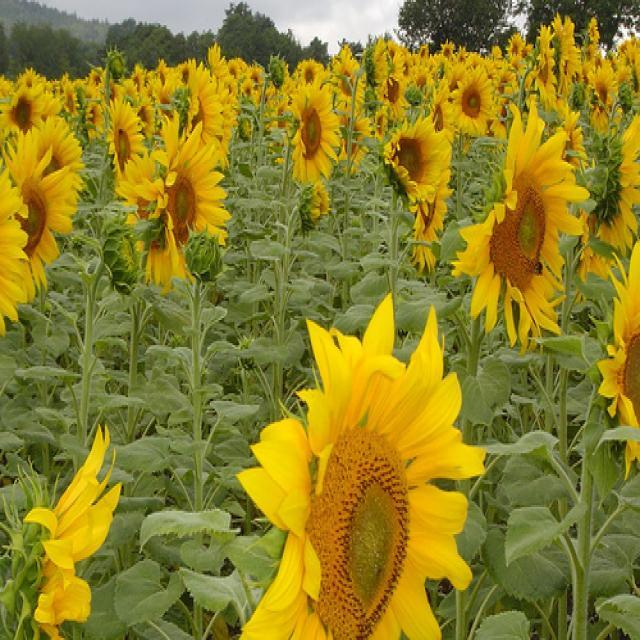sunflower: (240, 296, 486, 637), (450, 100, 590, 353), (24, 429, 120, 638), (148, 110, 230, 286), (5, 128, 77, 292), (597, 240, 640, 467), (115, 160, 184, 284), (595, 112, 640, 250), (382, 114, 454, 196), (290, 83, 340, 183), (0, 172, 31, 331), (102, 98, 146, 178), (184, 58, 223, 148), (33, 114, 85, 177), (576, 208, 618, 283), (447, 71, 496, 135), (409, 196, 448, 274), (1, 85, 43, 145), (524, 48, 560, 109), (588, 66, 620, 132), (554, 110, 586, 168), (338, 114, 372, 159), (551, 11, 581, 62), (298, 182, 328, 230), (382, 66, 408, 116), (364, 36, 389, 85), (429, 86, 455, 132), (336, 59, 356, 106), (298, 58, 323, 94), (268, 56, 290, 94), (150, 58, 172, 95), (60, 82, 81, 116), (492, 68, 516, 96), (86, 102, 104, 137), (99, 81, 123, 107), (130, 64, 146, 98), (20, 66, 42, 90), (208, 42, 226, 71), (440, 39, 456, 69), (560, 53, 578, 78), (90, 66, 106, 94), (248, 68, 264, 96), (609, 58, 627, 82), (464, 52, 485, 72), (274, 102, 290, 128), (566, 59, 584, 82), (176, 63, 193, 85), (509, 34, 523, 60), (588, 16, 601, 44), (540, 26, 553, 54), (374, 111, 387, 138), (412, 69, 427, 92), (630, 64, 640, 96), (121, 80, 138, 98), (509, 59, 527, 76), (584, 44, 599, 64), (227, 60, 241, 81), (387, 39, 401, 60), (401, 58, 412, 80), (591, 53, 606, 68), (628, 48, 640, 65), (456, 48, 466, 68), (421, 45, 430, 61), (522, 44, 534, 55)
